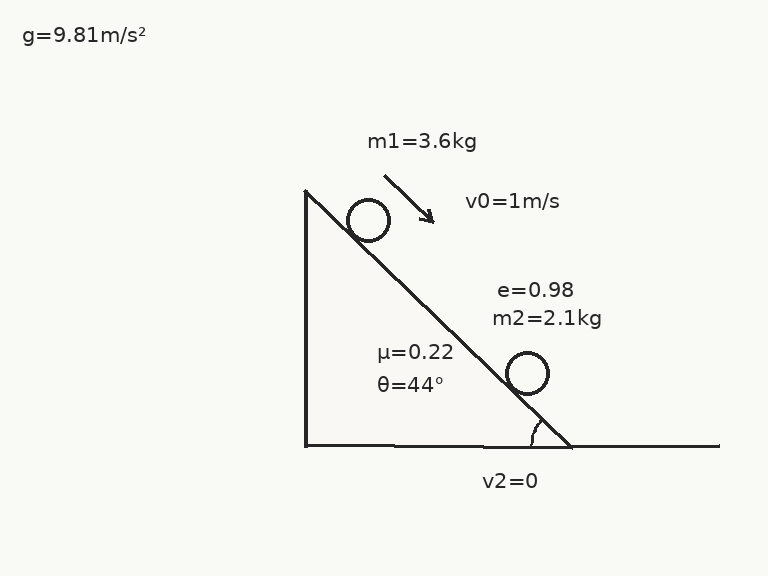ball: (344, 196, 392, 244), (503, 349, 551, 397)
ramp: (304, 188, 573, 448)
